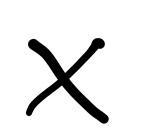mult: (27, 38, 110, 124)
